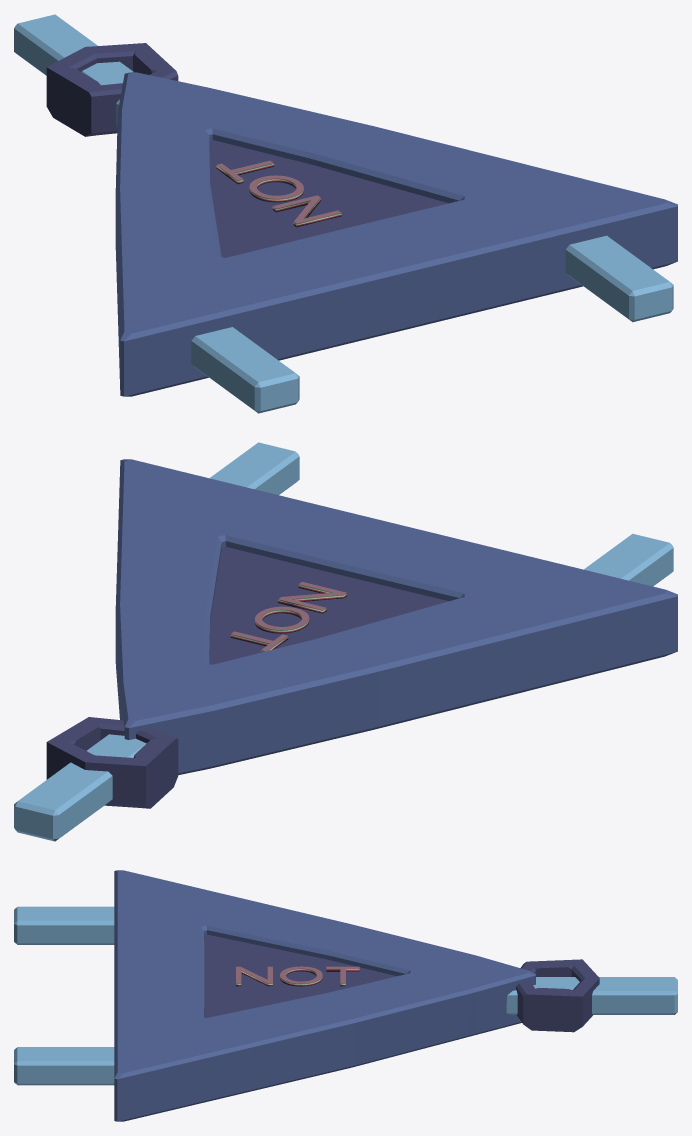
The model's file is Assets_Gates.fbx_NOT.fbx.
The picture shows the model from 3 angles, top to bottom: view 1: azimuth 30°, elevation 25°; view 2: azimuth 150°, elevation 25°; view 3: azimuth 270°, elevation 25°; orthographic projection. The views are drawn at different scales.
Visible parts, largest first — view 1: Buffer, N.001, Text.002; view 2: Buffer, N.001, Text.002; view 3: Buffer, N.001, Text.002.
Part boxes in pixels (box(x1,y1,x2,y2)): Buffer: box(14, 14, 677, 413); N.001: box(46, 43, 178, 136); Text.002: box(216, 160, 341, 227); Buffer: box(14, 442, 677, 841); N.001: box(46, 717, 178, 808); Text.002: box(230, 581, 346, 652); Buffer: box(14, 870, 677, 1121); N.001: box(516, 959, 599, 1032); Text.002: box(236, 966, 359, 986).
Bounding box in the file's own units: 298 × 32.2 × 400.
